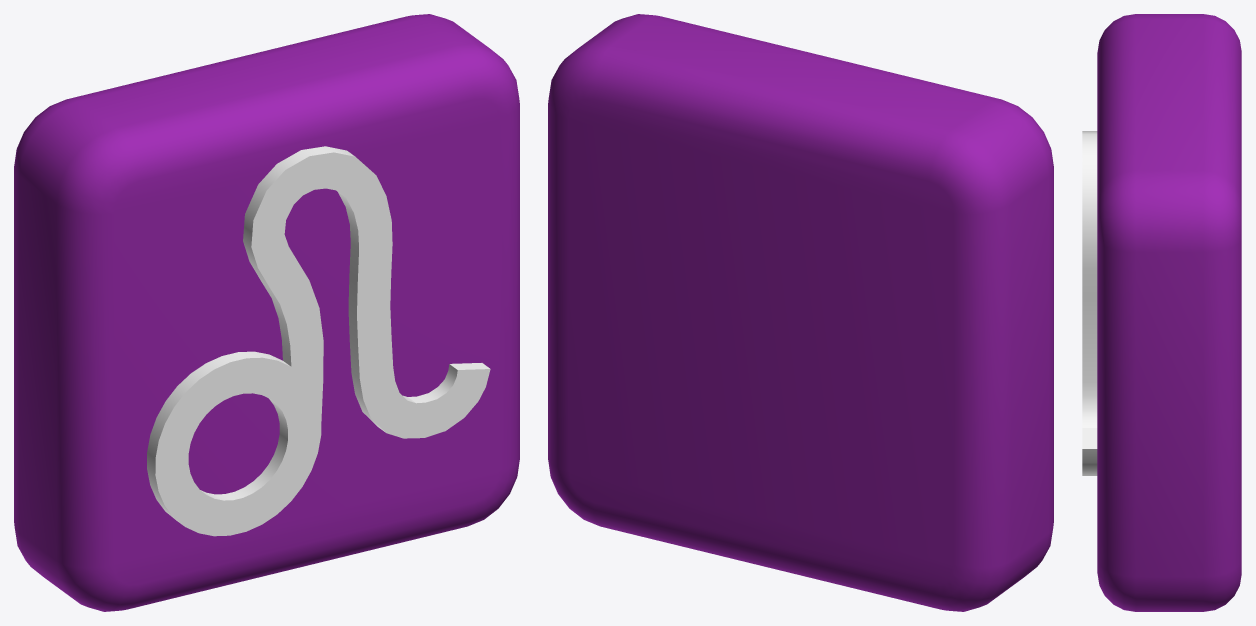
Rendered from leo.glb.
3 views of the same model, side by side, from view 1: azimuth 30°, elevation 25°; view 2: azimuth 150°, elevation 25°; view 3: azimuth 270°, elevation 25° (orthographic). The views are drawn at different scales.
Visible parts, largest first — view 1: Cube.6403; view 2: Cube.6403; view 3: Cube.6403.
Part boxes in pixels (x1,y1,x2,y2): Cube.6403: [14, 14, 519, 611]; Cube.6403: [548, 14, 1053, 611]; Cube.6403: [1082, 14, 1241, 611].
Bounding box in the file's own units: 2.2 × 2.2 × 0.73.
1 material, 1 textured.
